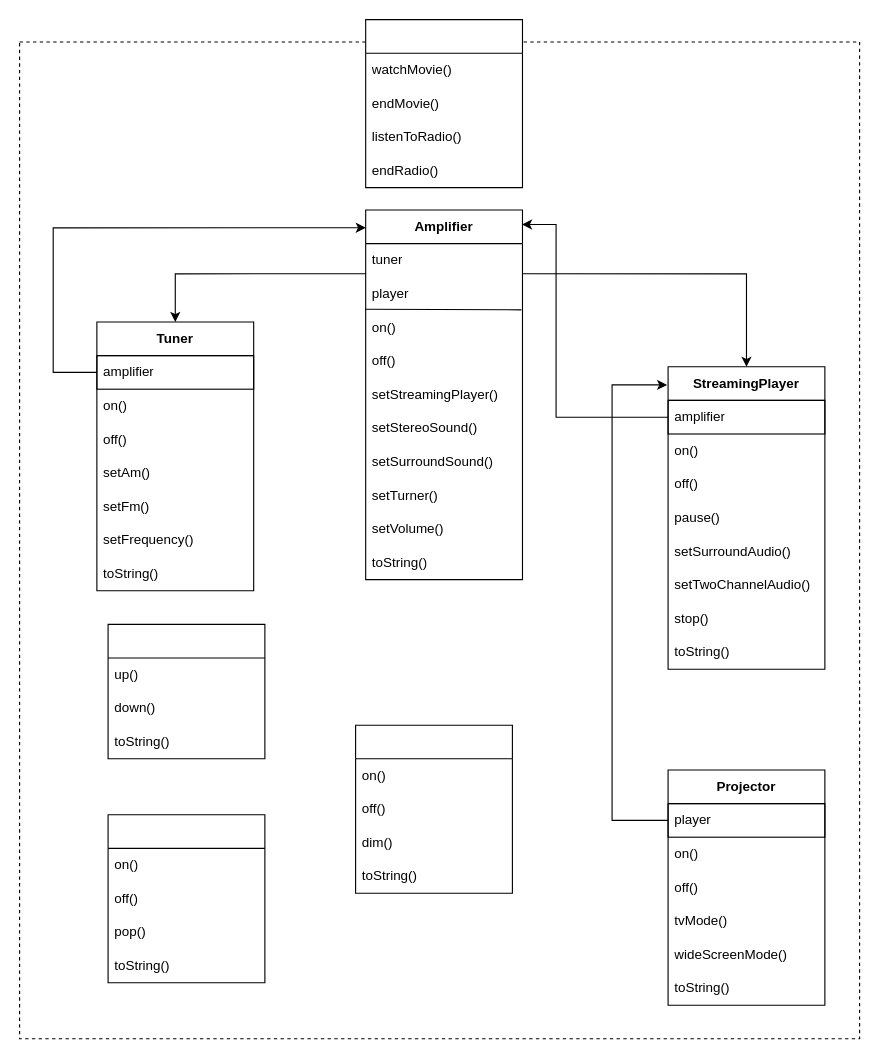
Image size: 879x1058. Some labels were removed from this diagram. The box of each missing label's shape, as (x1, y1, x2, y2) in pixels:
HomeTheaterFacade: (365, 18, 522, 188)
PopcornPopper: (107, 814, 265, 983)
Screen: (107, 623, 265, 759)
TheaterLights: (354, 724, 512, 893)
